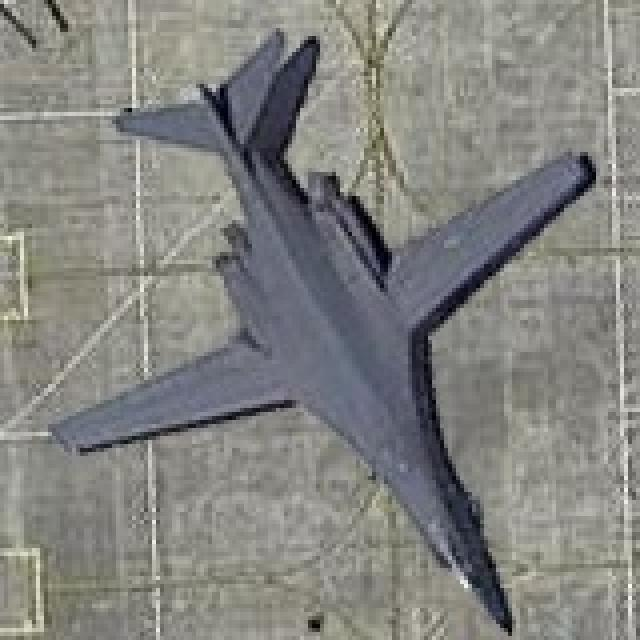B-1_TopDown: (44, 20, 596, 632)
